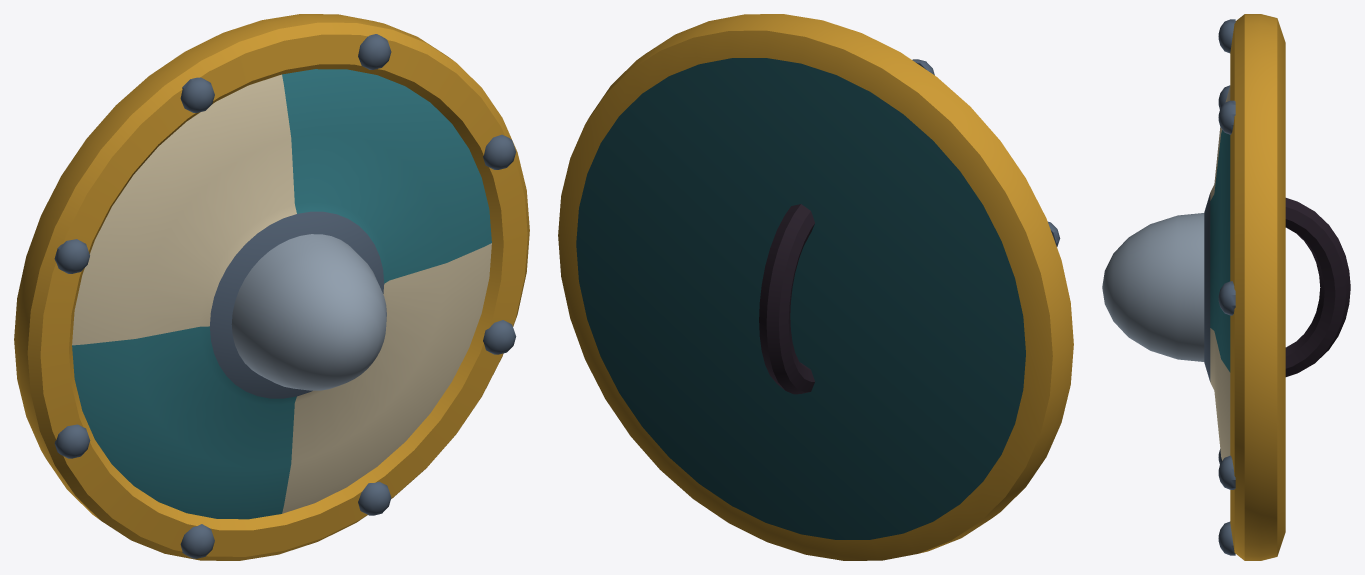
File: RoundShield_17.glb
3 renders of one model, left to right at view 1: azimuth 30°, elevation 25°; view 2: azimuth 150°, elevation 25°; view 3: azimuth 270°, elevation 25°, orthographic. The views are drawn at different scales.
Visible parts, largest first — view 1: RoundShield_17; view 2: RoundShield_17; view 3: RoundShield_17.
Boxes of the visible parts, bbox=[...] form: RoundShield_17: bbox=[14, 14, 529, 560]; RoundShield_17: bbox=[558, 14, 1073, 560]; RoundShield_17: bbox=[1102, 14, 1350, 560].
Size of the model in its own units: 2.68 by 2.68 by 1.22.
